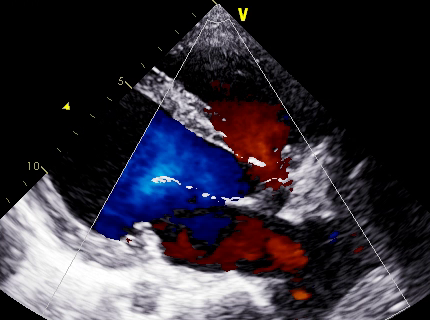MR: (125, 169, 186, 248)
